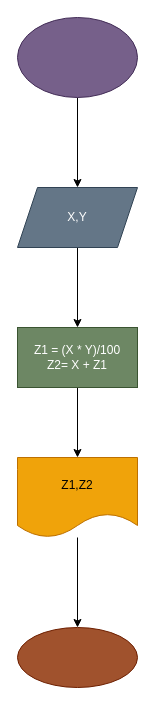
Some shapes in this 155 by 705 pixel diagram are drawn without their labels. Each missing label, with the centre of its shape:
FIN: the point at 77,657
INICIO: the point at 77,57
